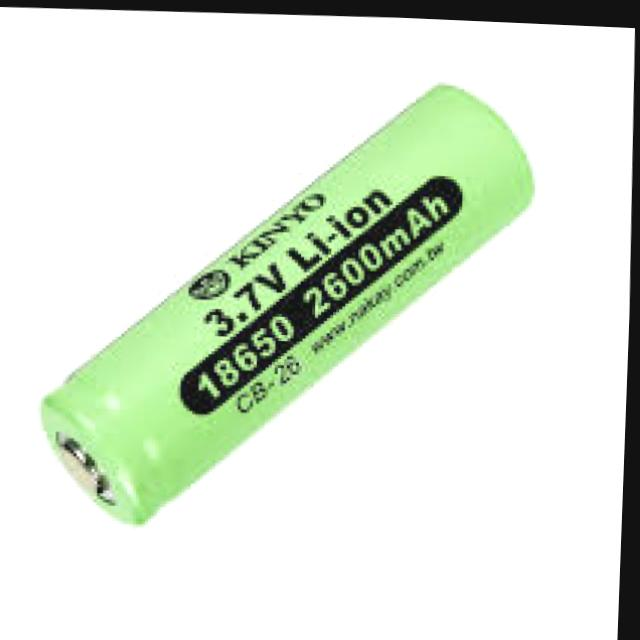B3: (0, 0, 593, 597)
